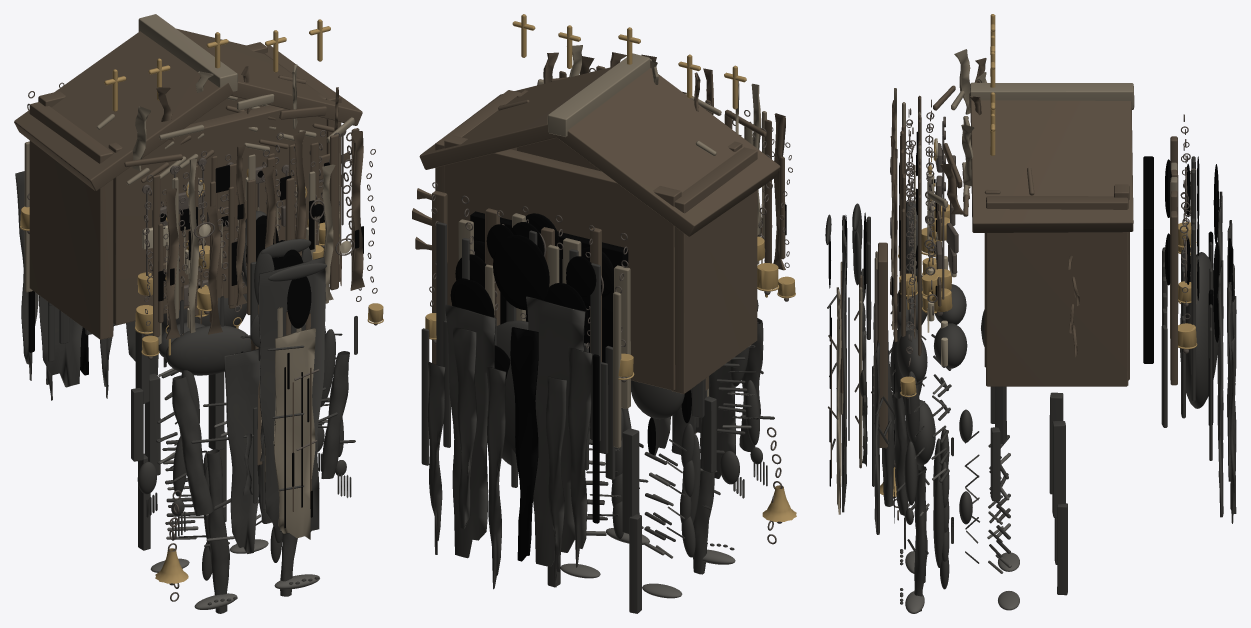
File: penance_carrier_end_goal_v11_5_clay_quality_sculpt.glb
3 views of the same model, side by side, from view 1: azimuth 30°, elevation 25°; view 2: azimuth 150°, elevation 25°; view 3: azimuth 270°, elevation 25° (orthographic). The views are drawn at different scales.
Visible parts, largest first — view 1: PC_V4_shrine_front_rotten_wall, PC_V4_shrine_left_side_wall, PC_V4_roof_left_steep_slab, PC_V11_black_inner_hanging_cloth_behind_mask, PC_V11_warped_central_door_mask_panel, PC_V11_left_torn_front_cloak_sheet, PC_V4_roof_right_steep_slab, PC_V11_crushed_left_shoulder_meat, PC_V11_5_left_arm_pinched_wrapped_sculpt, PC_V4_roof_ridge_heavy_rot, PC_V11_5_left_leg_compressed_wrapped_sculpt, PC_V11_back_rotten_skin_sheet_left (+34 smaller); view 2: PC_V4_shrine_rear_rotten_wall, PC_V4_roof_left_steep_slab, PC_V4_shrine_left_side_wall, PC_V11_back_rotten_skin_sheet_left, PC_V11_back_rotten_skin_sheet_right, PC_V4_roof_right_steep_slab, PC_V11_5_back_layered_rotten_sheet_02, PC_V11_5_back_layered_rotten_sheet_00, PC_V11_5_back_layered_rotten_sheet_04, PC_V11_back_deep_rotted_hole_01, PC_V11_5_back_layered_rotten_sheet_03, PC_V11_5_back_layered_rotten_sheet_01 (+40 smaller); view 3: PC_V4_shrine_right_side_wall, PC_V4_roof_right_steep_slab, PC_V4_roof_ridge_heavy_rot, PC_V11_back_swollen_rotten_under_mass, PC_V4_back_black_rotten_hollow, PC_V6_long_door_mask_front, PC_V11_back_rotten_skin_sheet_right, PC_V5_back_rotten_vertical_plank_07, PC_V11_5_right_leg_compressed_wrapped_sculpt, PC_V11_black_inner_hanging_cloth_behind_mask, PC_V11_5_right_arm_pinched_wrapped_sculpt, PC_V6_right_wrapped_thigh (+24 smaller).
Part boxes in pixels (<box>): PC_V4_shrine_front_rotten_wall: <box>108,93,326,325</box>; PC_V4_shrine_left_side_wall: <box>29,102,113,339</box>; PC_V4_roof_left_steep_slab: <box>14,31,233,190</box>; PC_V11_black_inner_hanging_cloth_behind_mask: <box>258,257,325,530</box>; PC_V11_warped_central_door_mask_panel: <box>273,328,315,539</box>; PC_V11_left_torn_front_cloak_sheet: <box>224,349,259,553</box>; PC_V4_roof_right_steep_slab: <box>176,28,362,125</box>; PC_V11_crushed_left_shoulder_meat: <box>165,325,251,375</box>; PC_V11_5_left_arm_pinched_wrapped_sculpt: <box>172,375,213,515</box>; PC_V4_roof_ridge_heavy_rot: <box>138,14,237,91</box>; PC_V11_5_left_leg_compressed_wrapped_sculpt: <box>206,449,229,613</box>; PC_V11_back_rotten_skin_sheet_left: <box>39,295,82,387</box>; PC_V4_shrine_rear_rotten_wall: <box>444,135,681,390</box>; PC_V4_roof_left_steep_slab: <box>557,68,780,236</box>; PC_V4_shrine_left_side_wall: <box>672,147,757,393</box>; PC_V11_back_rotten_skin_sheet_left: <box>526,296,585,566</box>; PC_V11_back_rotten_skin_sheet_right: <box>444,304,496,558</box>; PC_V4_roof_right_steep_slab: <box>419,67,610,169</box>; PC_V11_5_back_layered_rotten_sheet_02: <box>510,327,538,561</box>; PC_V11_5_back_layered_rotten_sheet_00: <box>568,346,592,567</box>; PC_V11_5_back_layered_rotten_sheet_04: <box>452,327,477,528</box>; PC_V11_back_deep_rotted_hole_01: <box>493,235,549,310</box>; PC_V11_5_back_layered_rotten_sheet_03: <box>486,366,506,589</box>; PC_V11_5_back_layered_rotten_sheet_01: <box>546,376,566,587</box>; PC_V4_shrine_right_side_wall: <box>986,196,1128,386</box>; PC_V4_roof_right_steep_slab: <box>970,100,1133,232</box>; PC_V4_roof_ridge_heavy_rot: <box>970,82,1133,108</box>; PC_V11_back_swollen_rotten_under_mass: <box>1180,252,1218,408</box>; PC_V4_back_black_rotten_hollow: <box>1143,156,1153,363</box>; PC_V6_long_door_mask_front: <box>877,242,887,448</box>; PC_V11_back_rotten_skin_sheet_right: <box>1218,260,1223,517</box>; PC_V5_back_rotten_vertical_plank_07: <box>1170,211,1177,385</box>; PC_V11_5_right_leg_compressed_wrapped_sculpt: <box>914,465,926,611</box>; PC_V11_black_inner_hanging_cloth_behind_mask: <box>842,215,846,512</box>; PC_V11_5_right_arm_pinched_wrapped_sculpt: <box>893,392,908,515</box>; PC_V6_right_wrapped_thigh: <box>1052,421,1065,517</box>.
Size of the model in its own units: 2.65 by 4.48 by 3.06.
